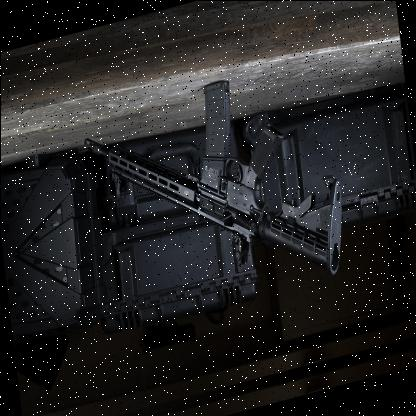rifle: (108, 0, 390, 260)
